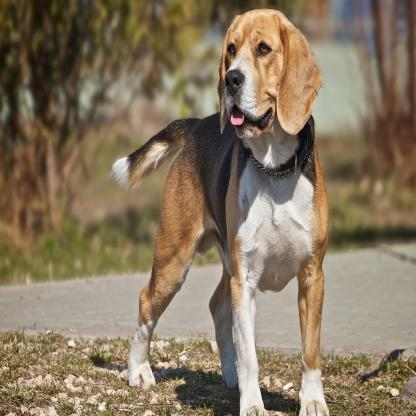Bigl: (108, 4, 336, 416)
